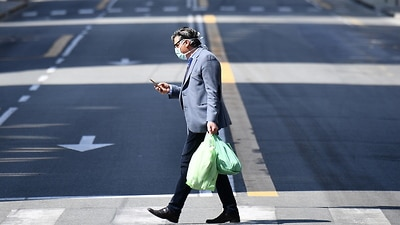with_mask: (166, 29, 200, 62)
